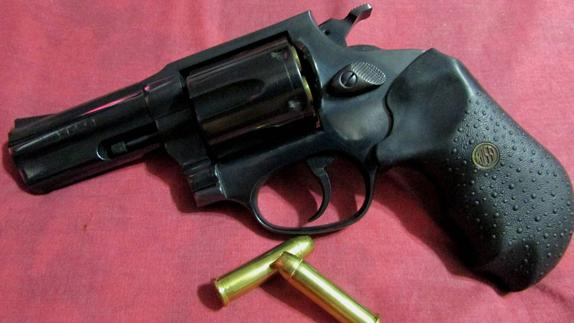Arma Real: (8, 9, 574, 291)
